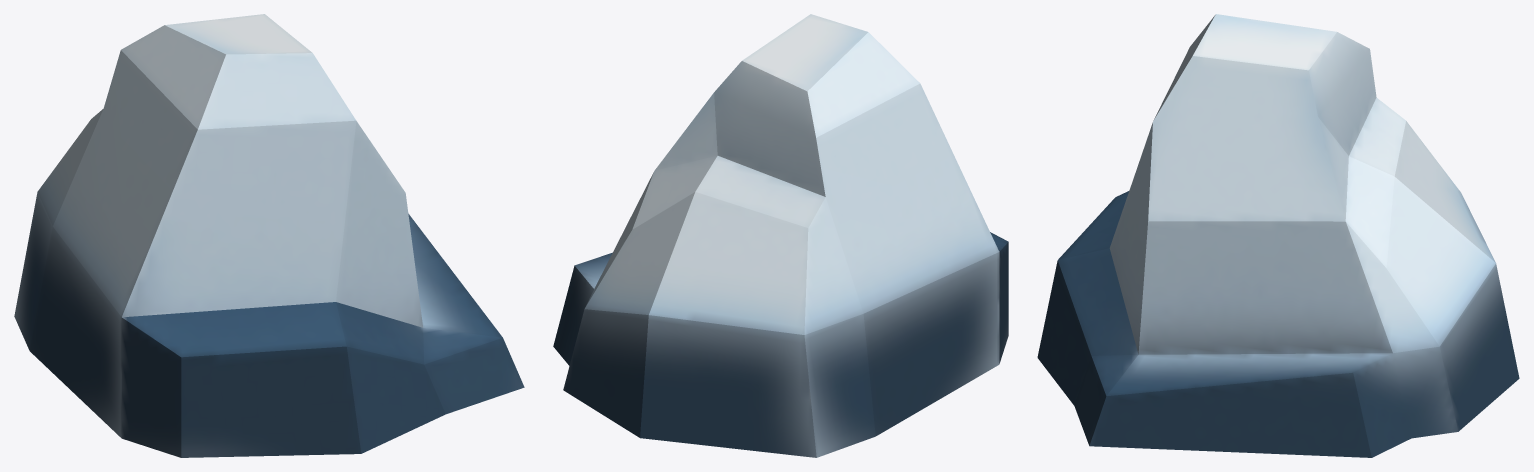
The model's file is Rock_2.fbx.
3 views of the same model, side by side, from view 1: azimuth 30°, elevation 25°; view 2: azimuth 150°, elevation 25°; view 3: azimuth 270°, elevation 25° (orthographic). The views are drawn at different scales.
Parts seen in each view (by area): view 1: Rock_2; view 2: Rock_2; view 3: Rock_2.
Boxes of the visible parts, <box> form: Rock_2: <box>14,14,524,457</box>; Rock_2: <box>553,14,1008,457</box>; Rock_2: <box>1037,14,1519,457</box>.
Bounding box in the file's own units: 0.6738 × 0.5781 × 0.7782.
